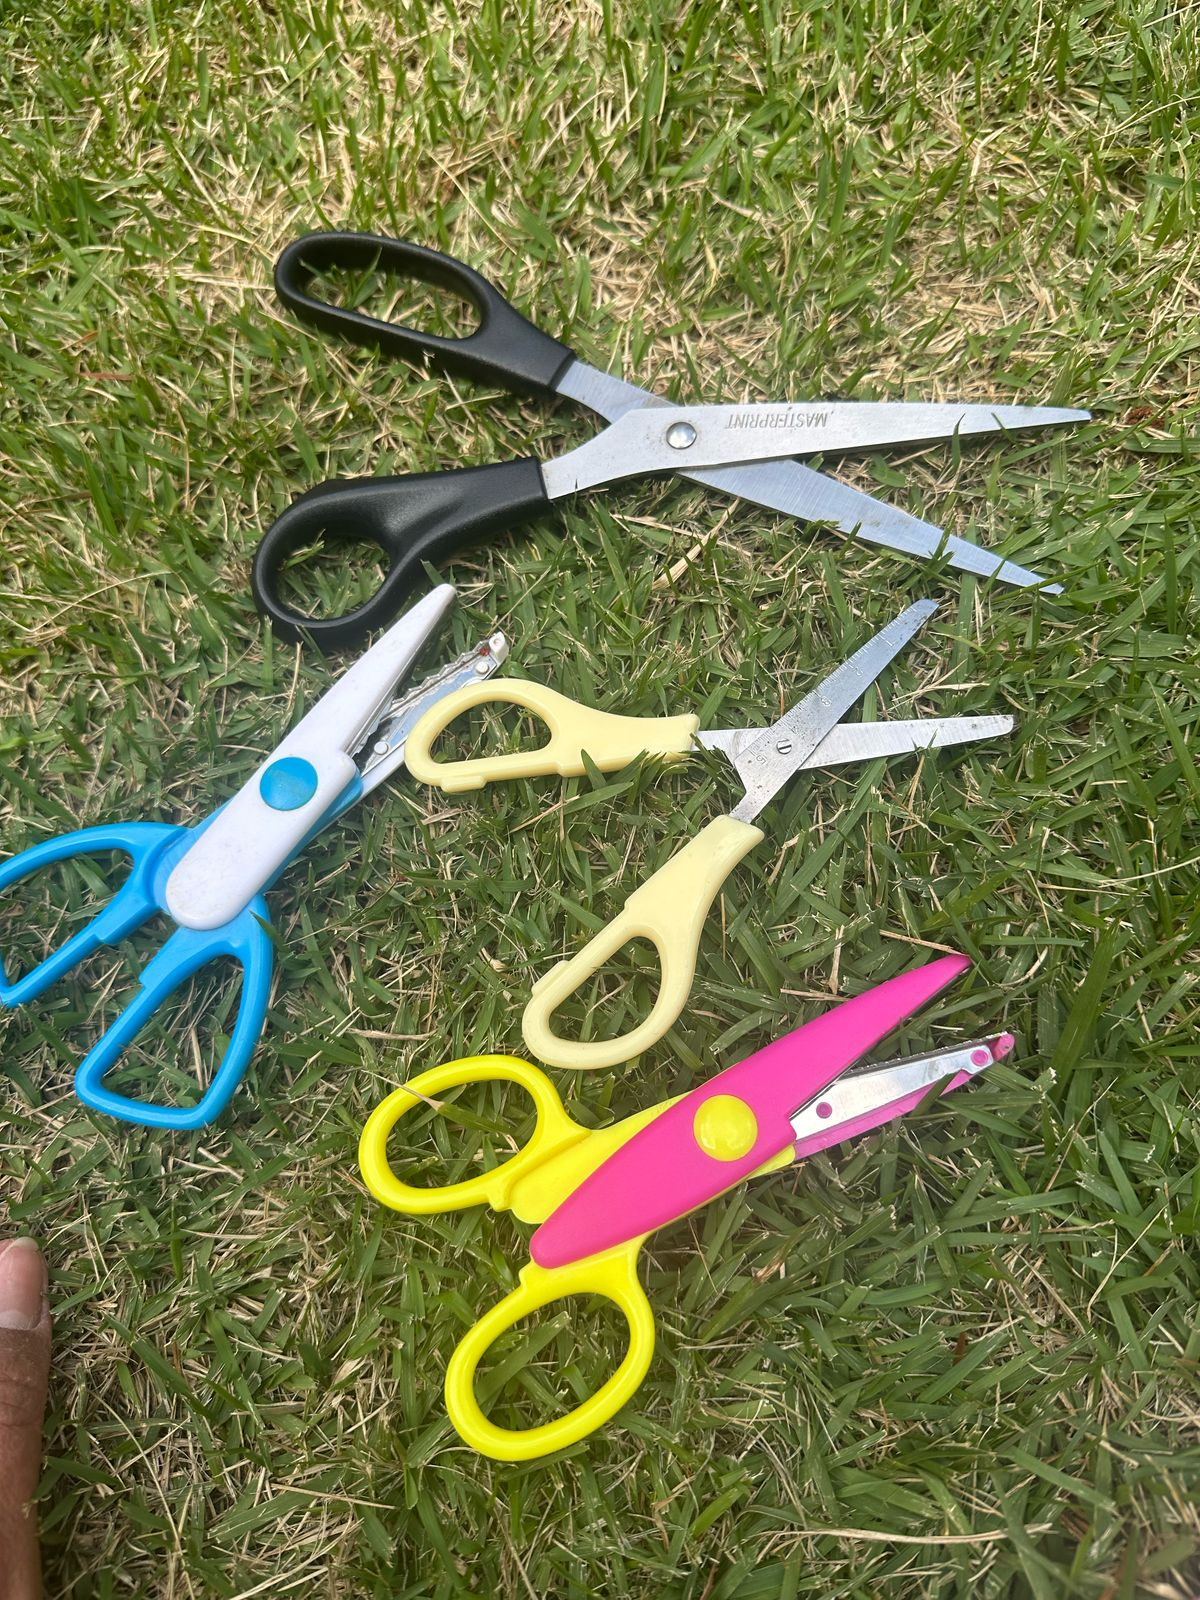tesoura: (336, 921, 1044, 1465), (242, 224, 1071, 612), (391, 597, 1022, 1074), (6, 584, 523, 1135)
